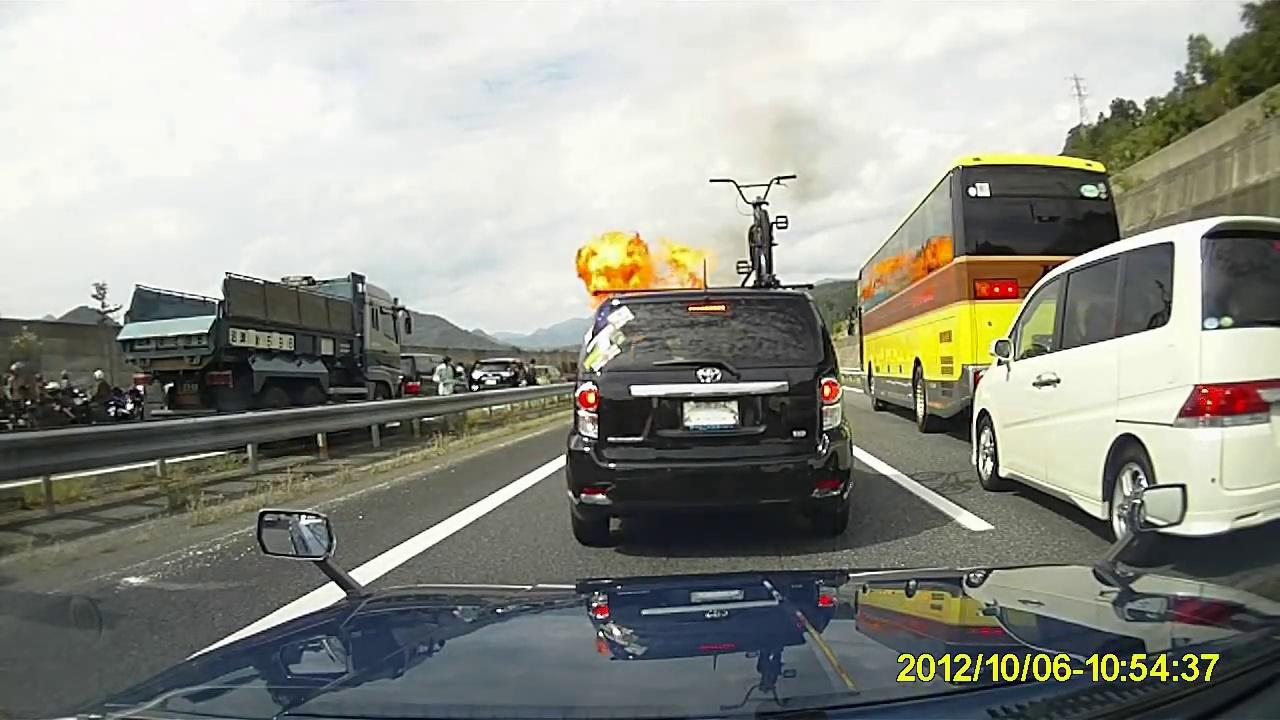fire: (567, 213, 721, 296), (752, 90, 844, 212)
